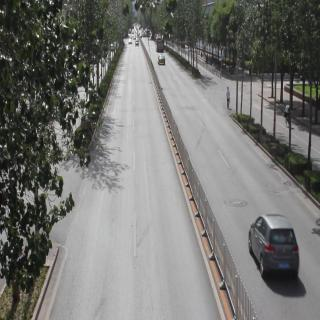BigCar: (154, 36, 167, 53)
Car: (246, 201, 301, 291), (154, 49, 170, 68), (135, 39, 141, 47), (128, 38, 133, 45)
